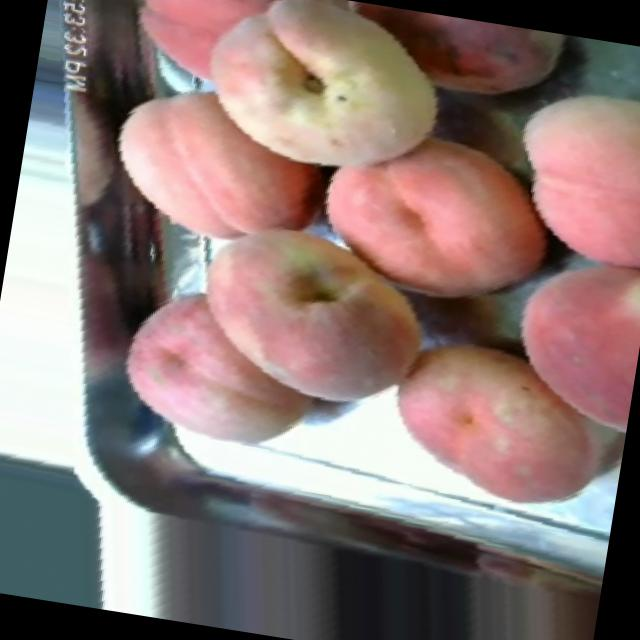Fruit: (166, 186, 457, 432), (162, 0, 477, 226), (286, 94, 580, 333), (81, 56, 348, 280), (369, 313, 637, 532), (99, 268, 342, 471), (484, 53, 640, 287), (484, 241, 640, 452), (360, 5, 590, 138)
